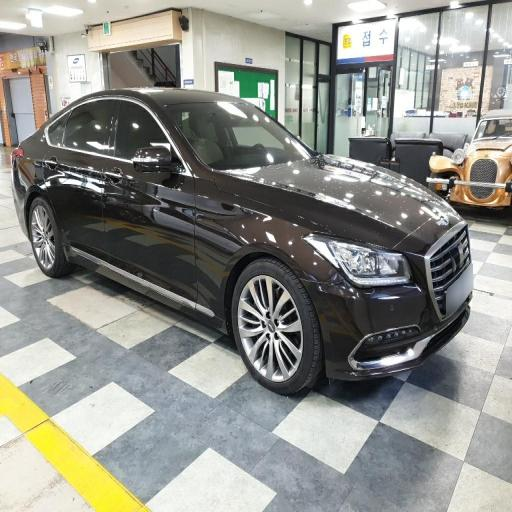scratch: (246, 190, 469, 304), (43, 116, 204, 234)
